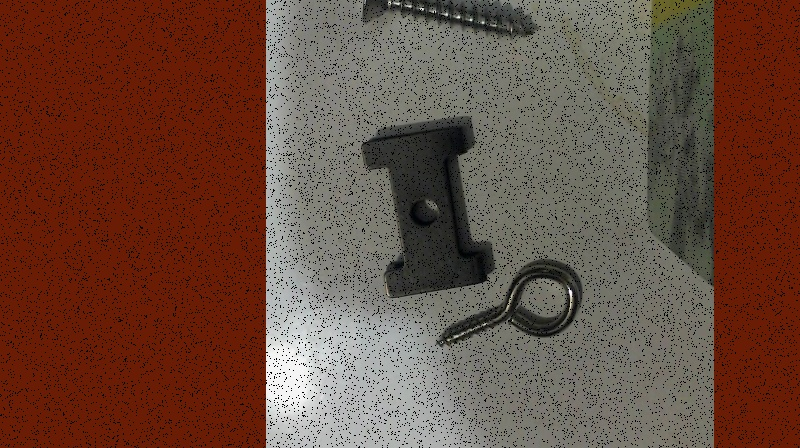O001: (433, 256, 583, 349)
O002: (357, 123, 486, 301)
S001: (357, 0, 535, 39)
